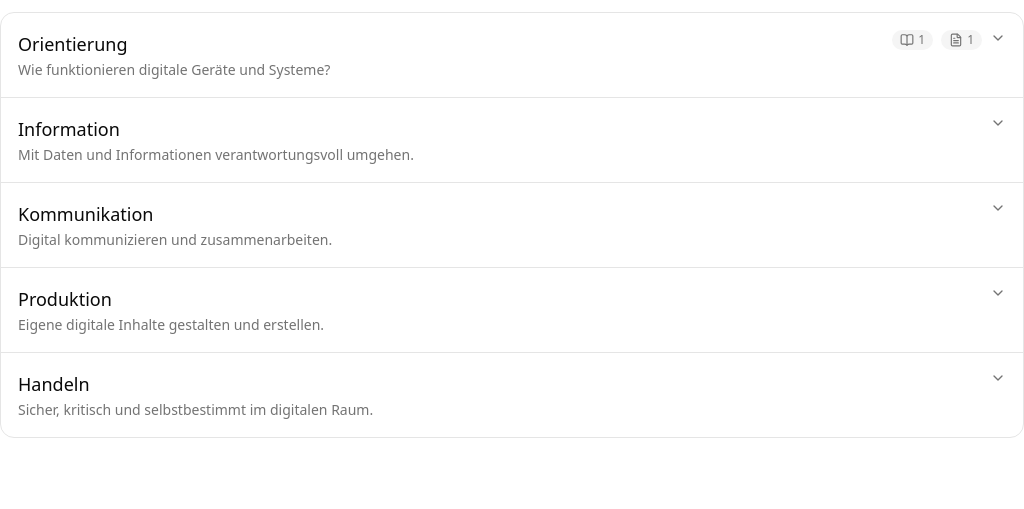
Test: BereichAccordion › shows an empty-state inside a bereich that has no topics
The image size is (1024, 509).
Click the button "Information" at [69, 129], box left=17, top=98, right=1007, bottom=182
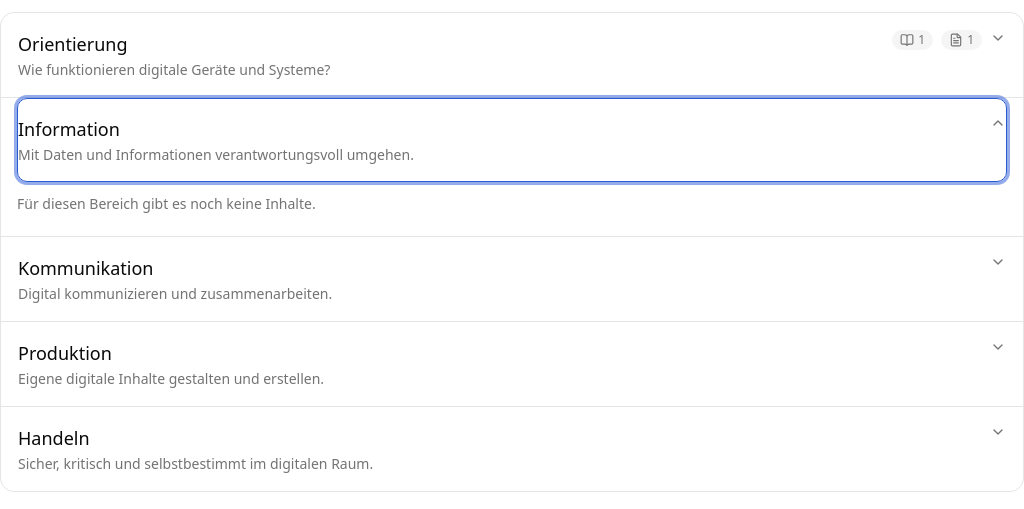
Result: the text "Für diesen Bereich gibt es noch keine Inhalte." is shown at left=17, top=194, right=316, bottom=213
